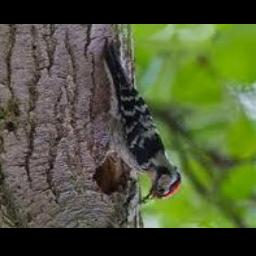Woodpecker: (94, 39, 181, 206)
